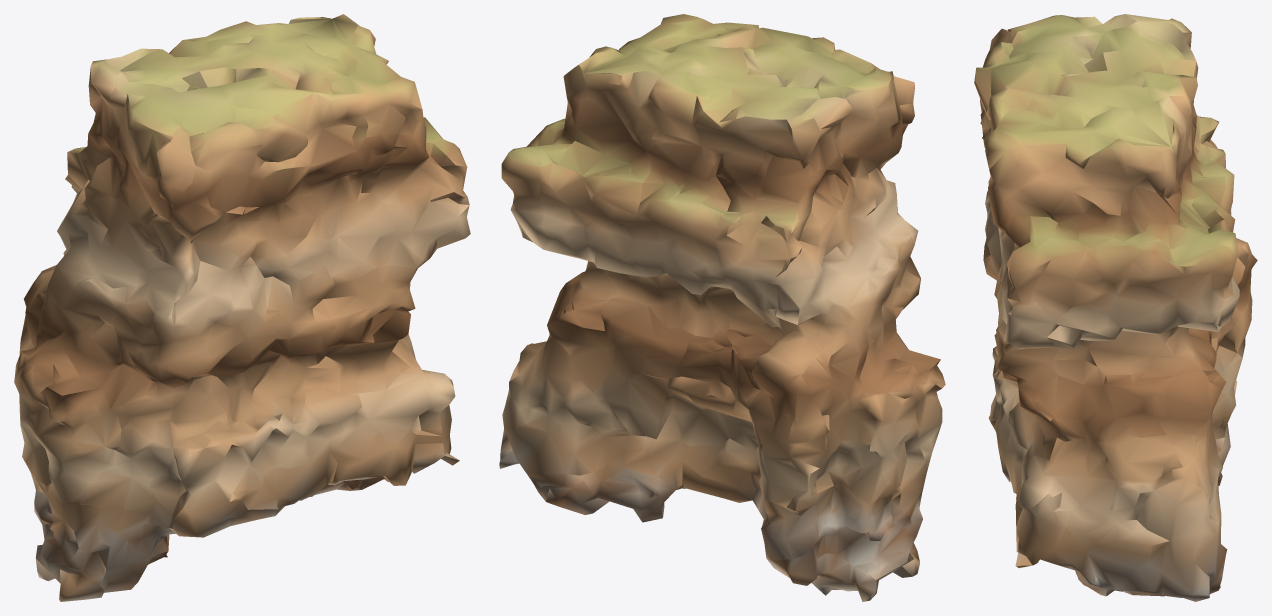
The model's file is shore_cliff_b_lod1.glb.
3 renders of one model, left to right at view 1: azimuth 30°, elevation 25°; view 2: azimuth 150°, elevation 25°; view 3: azimuth 270°, elevation 25°, orthographic. The views are drawn at different scales.
Parts seen in each view (by area): view 1: shore_cliff_b.001; view 2: shore_cliff_b.001; view 3: shore_cliff_b.001.
Part boxes in pixels (box(x1,y1,x2,y2)): shore_cliff_b.001: box(14, 14, 470, 601); shore_cliff_b.001: box(499, 14, 945, 601); shore_cliff_b.001: box(974, 14, 1257, 601).
Size of the model in its own units: 21.3 by 25.63 by 12.95.
